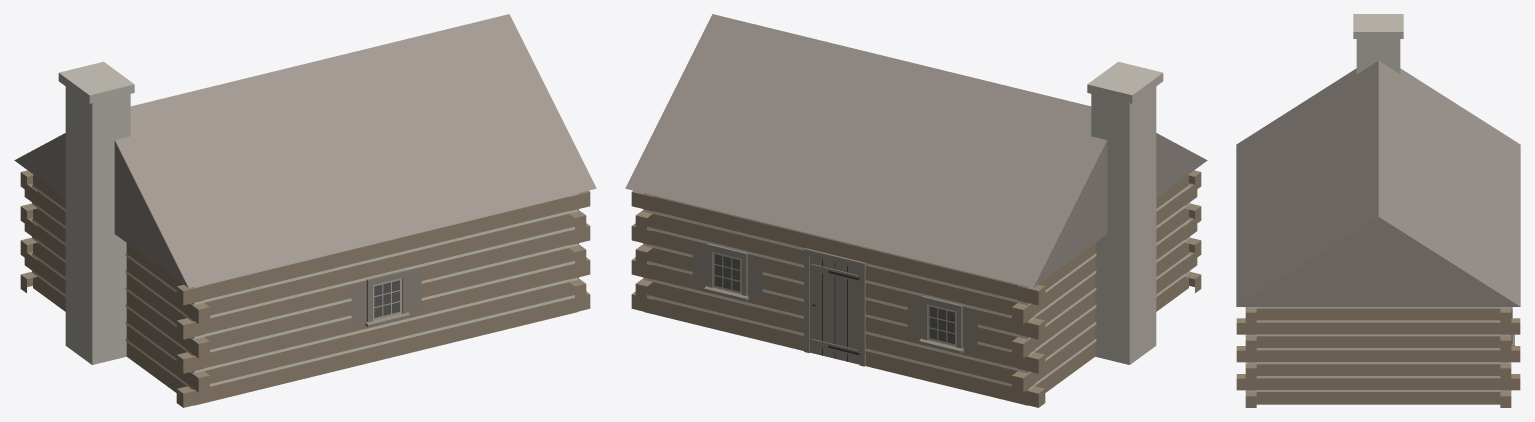
Rendered from lee_house_1812__lee_1812.glb.
The picture shows the model from 3 angles, left to right: view 1: azimuth 30°, elevation 25°; view 2: azimuth 150°, elevation 25°; view 3: azimuth 270°, elevation 25°; orthographic projection. The views are drawn at different scales.
Visible parts, largest first — view 1: lee_house_1812__lee_1812; view 2: lee_house_1812__lee_1812; view 3: lee_house_1812__lee_1812.
Boxes of the visible parts, x1=… form: lee_house_1812__lee_1812: x1=14, y1=14, x2=596, y2=407; lee_house_1812__lee_1812: x1=625, y1=14, x2=1207, y2=407; lee_house_1812__lee_1812: x1=1236, y1=14, x2=1520, y2=407.
Bounding box in the file's own units: 9.07 × 5.43 × 6.3.
